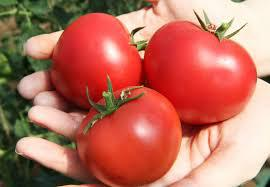tomato: (145, 21, 256, 126), (69, 88, 179, 181), (46, 13, 144, 106)
